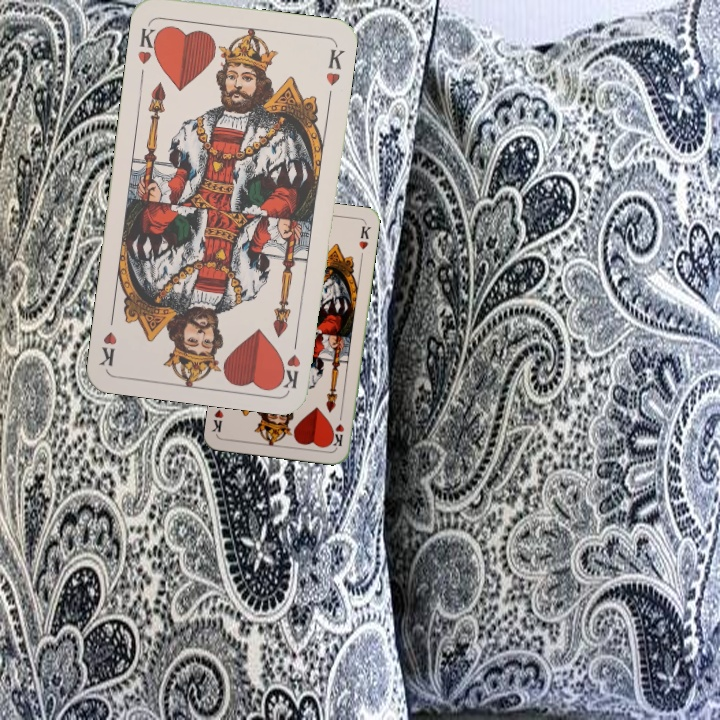HK: (279, 331, 303, 390), (134, 20, 163, 67), (327, 409, 347, 448)
